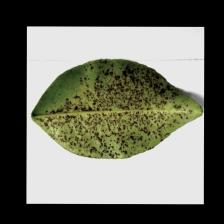canker: (86, 91, 154, 145)
